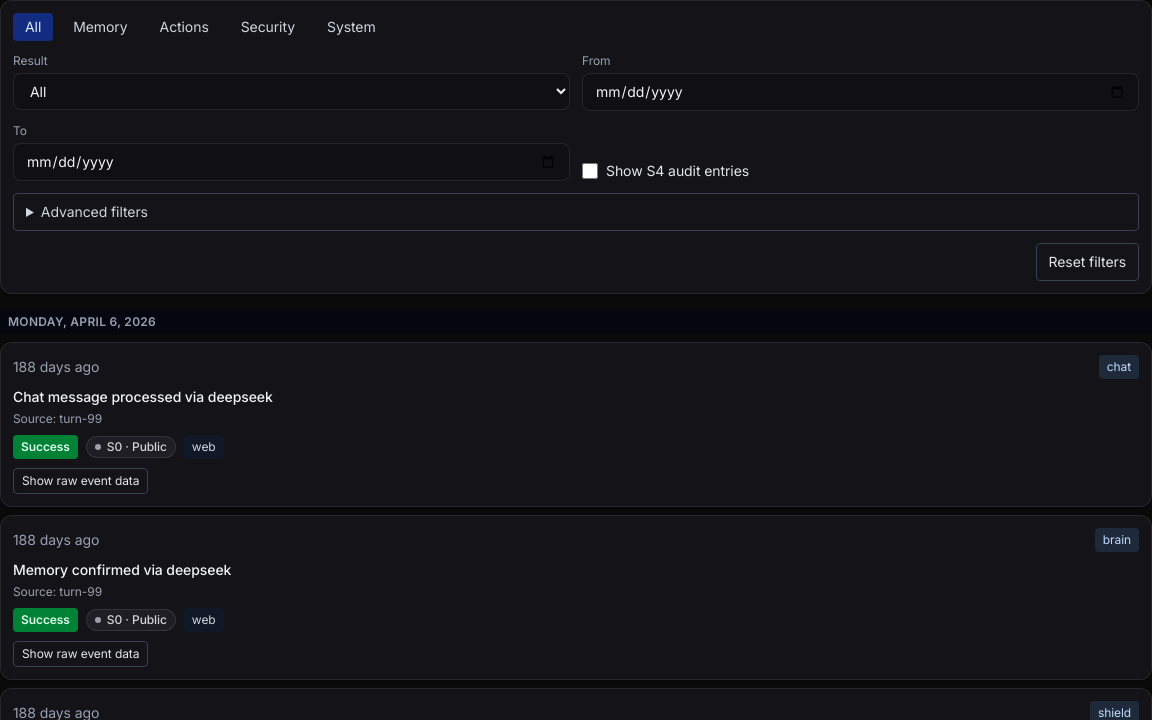
Test: AuditFeed › filtering by category only shows matching entries
The image size is (1152, 720).
Click the button "Security" at (268, 27), box x1=229 y1=13 x2=307 y2=41
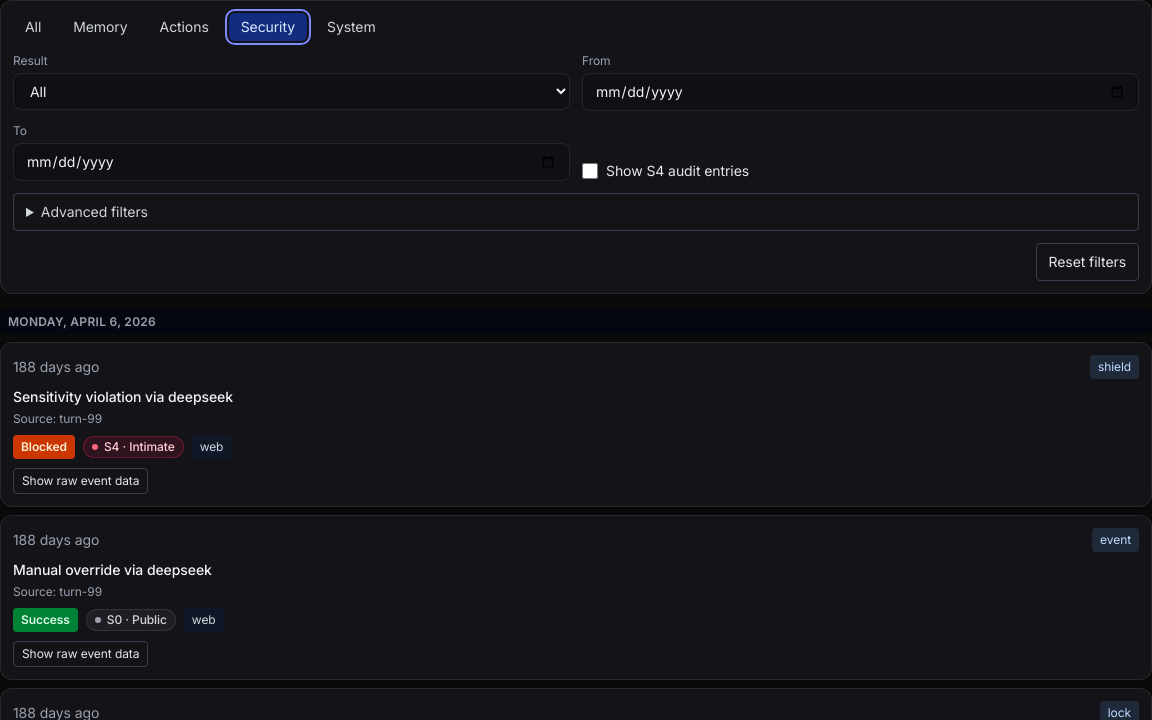
expect the text "Chat message processed via deepseek" is gone: met
